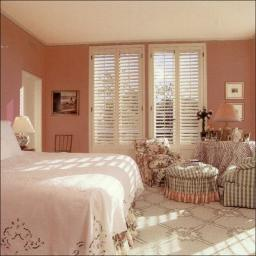Cama: (8, 147, 140, 252)
